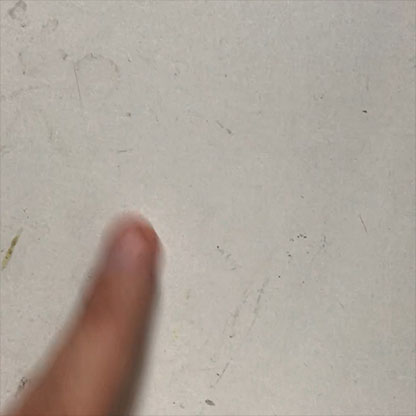fingertip: (89, 214, 167, 289)
